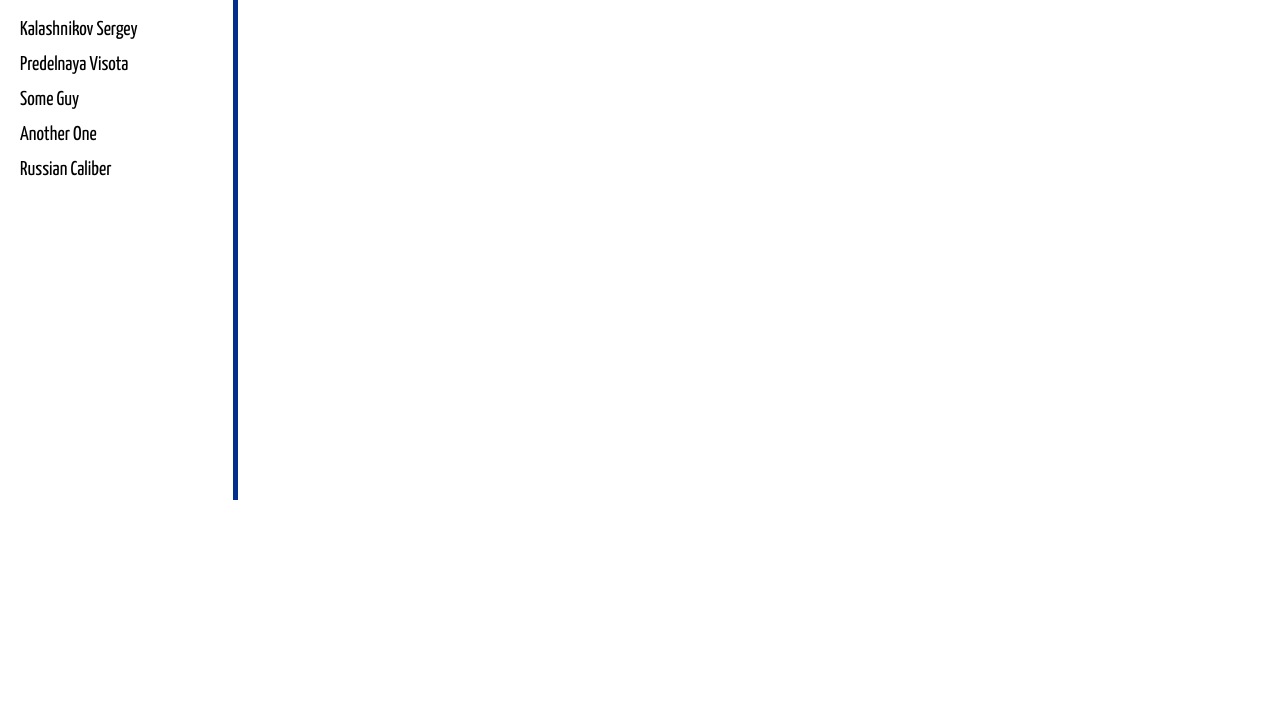
should open clicked dialogue and render some messages from this dialogue
What coordinates should you click on to do the following:
click the link with test id "dialog-item-/messages/KalashnikovSergey"
I would click on:
 (79, 30)
Its box is left=20, top=20, right=138, bottom=39.
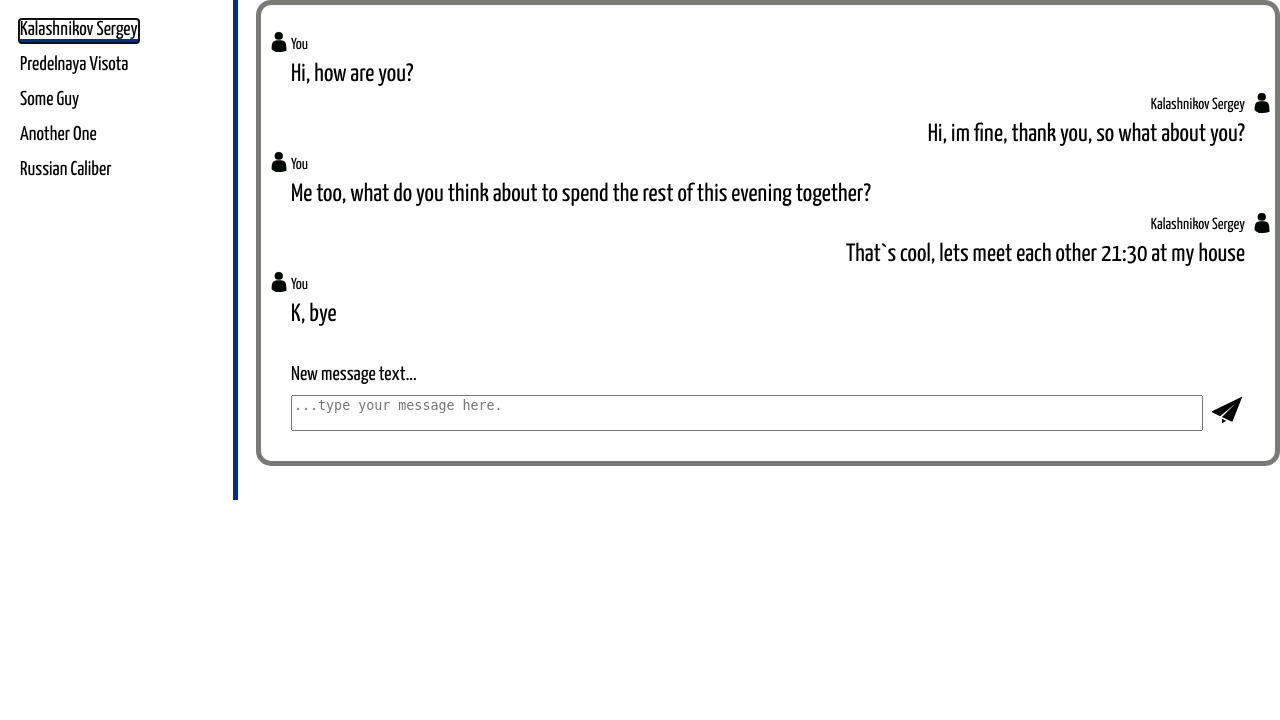
Now the element with test id "message-Hi, how are you?" is shown, box left=291, top=37, right=413, bottom=86
Now the element with test id "message-Hi, im fine, thank you, so what about you?" is shown, box left=928, top=97, right=1245, bottom=146
